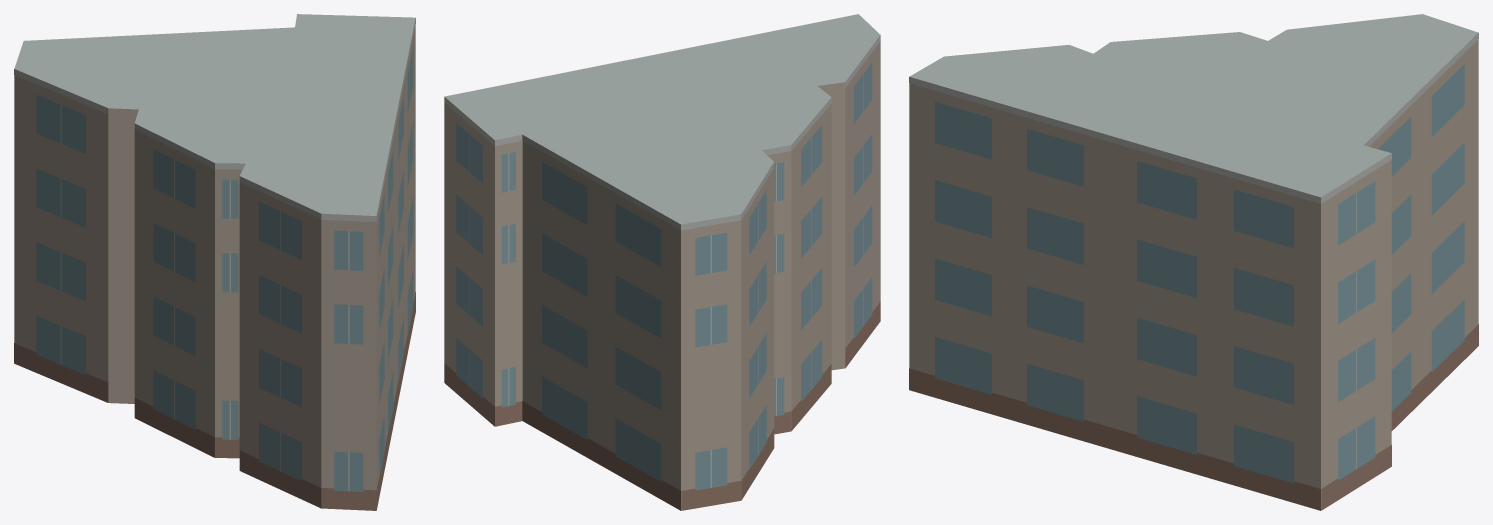
The model's file is survey-upis-32974440.glb.
3 views of the same model, side by side, from view 1: azimuth 30°, elevation 25°; view 2: azimuth 150°, elevation 25°; view 3: azimuth 270°, elevation 25° (orthographic). The views are drawn at different scales.
Parts seen in each view (by area): view 1: survey-upis-32974440.tmp; view 2: survey-upis-32974440.tmp; view 3: survey-upis-32974440.tmp.
Part boxes in pixels (<box>): survey-upis-32974440.tmp: <box>14,14,415,510</box>; survey-upis-32974440.tmp: <box>444,14,880,510</box>; survey-upis-32974440.tmp: <box>909,14,1478,510</box>.
Size of the model in its own units: 14.84 by 11.81 by 19.47.
